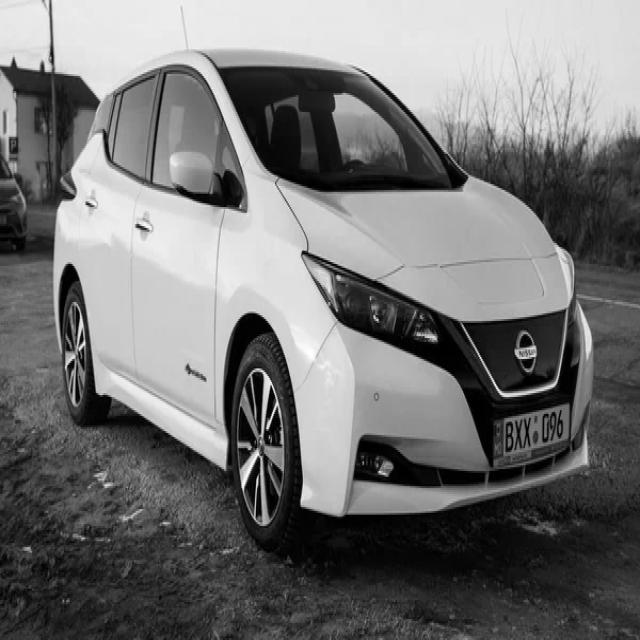Car: (54, 51, 596, 551)
